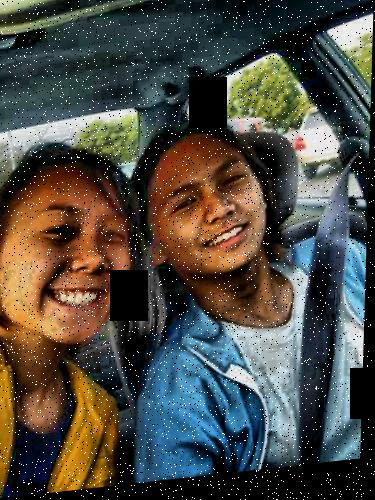seatbelt: (264, 177, 359, 469)
